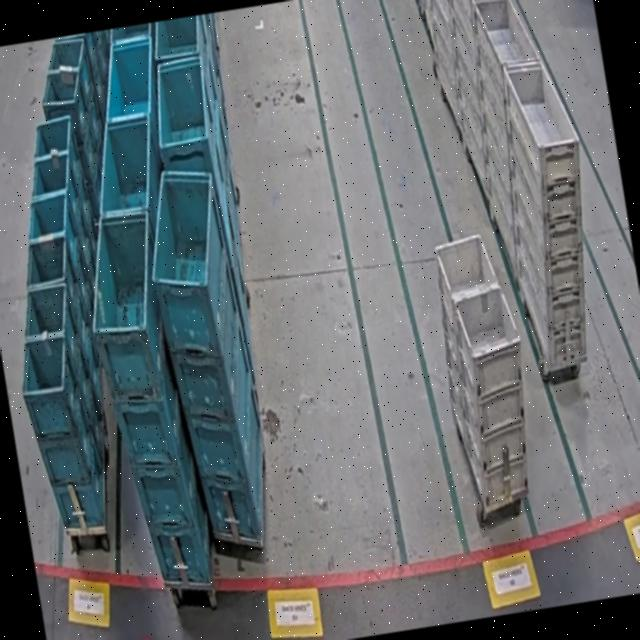6G: (482, 54, 614, 376)
8G: (428, 227, 546, 513)
B4: (134, 161, 280, 550), (77, 211, 218, 596)
B8: (5, 279, 114, 536)
